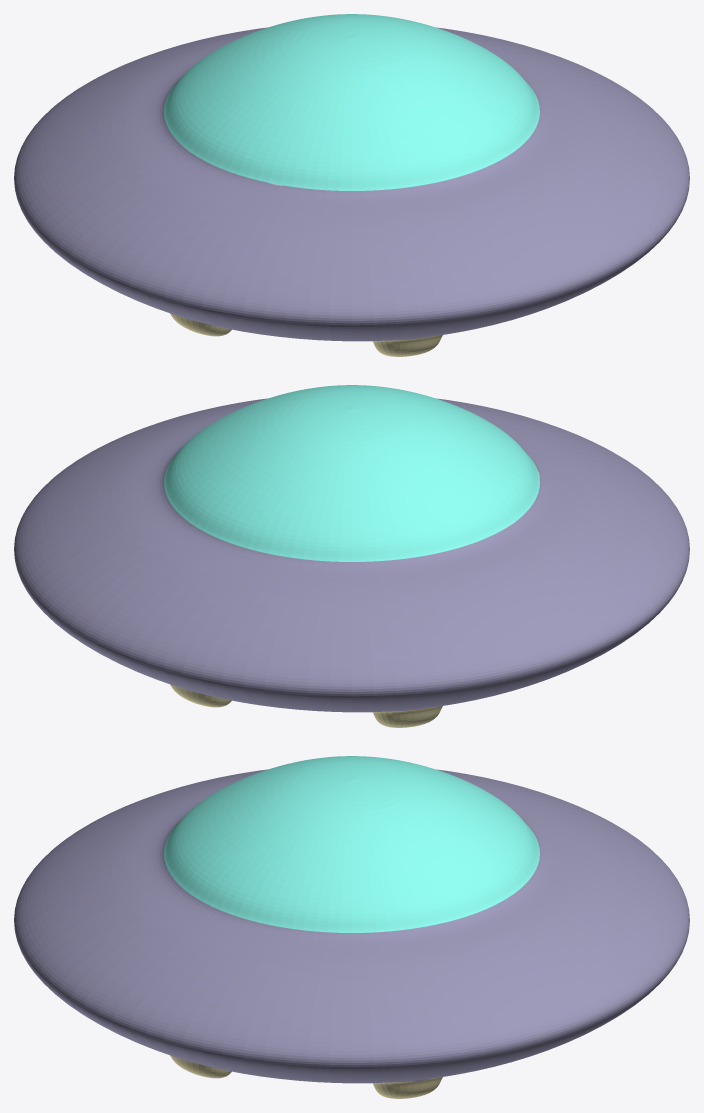
Rendered from ufo.obj.
3 renders of one model, top to bottom at view 1: azimuth 30°, elevation 25°; view 2: azimuth 150°, elevation 25°; view 3: azimuth 270°, elevation 25°, orthographic.
Parts seen in each view (by area): view 1: Cylinder; view 2: Cylinder; view 3: Cylinder.
Boxes of the visible parts, x1=… form: Cylinder: x1=14, y1=14, x2=689, y2=356; Cylinder: x1=14, y1=385, x2=689, y2=727; Cylinder: x1=14, y1=756, x2=689, y2=1098.
Size of the model in its own units: 2.14 by 0.9626 by 2.14.
1 material, 1 textured.
